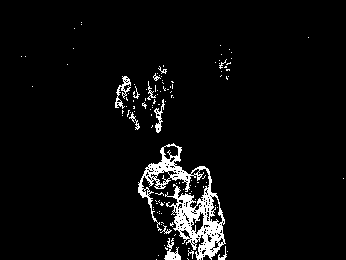person: (136, 141, 188, 259), (173, 163, 229, 260), (143, 63, 175, 133), (114, 73, 141, 131)
